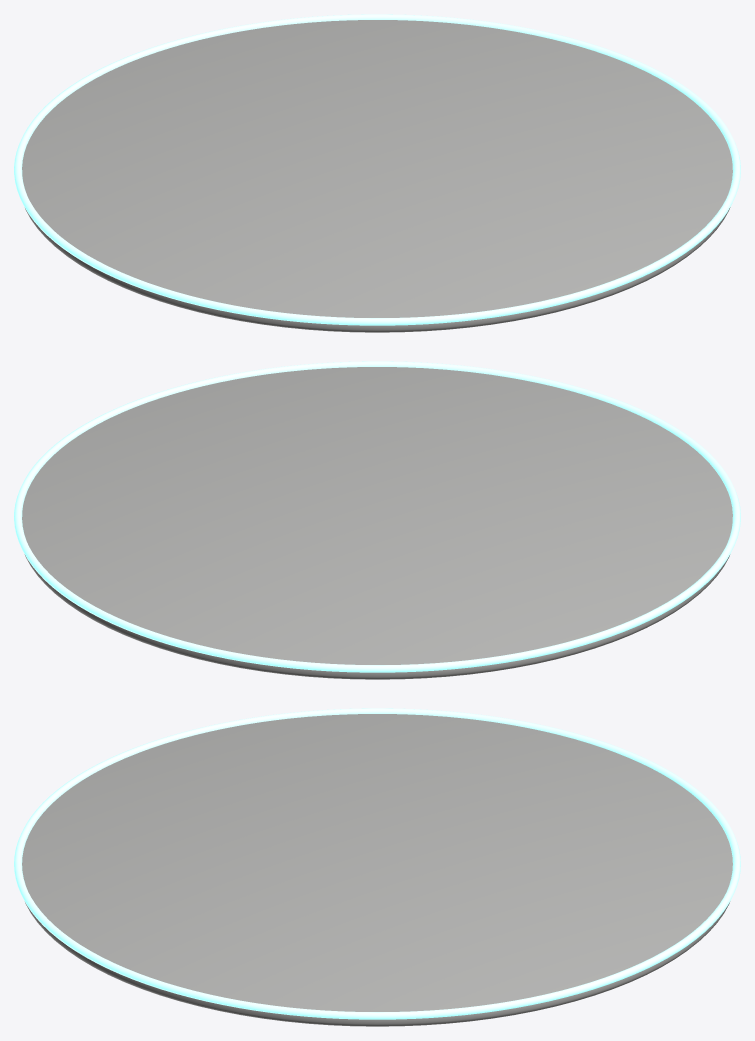
The model's file is platform.glb.
The picture shows the model from 3 angles, top to bottom: view 1: azimuth 30°, elevation 25°; view 2: azimuth 150°, elevation 25°; view 3: azimuth 270°, elevation 25°; orthographic projection.
Parts seen in each view (by area): view 1: Platform, PlatformRim; view 2: Platform, PlatformRim; view 3: Platform, PlatformRim.
Part boxes in pixels (x1=…): Platform: x1=22, y1=20, x2=732, y2=332; PlatformRim: x1=14, y1=14, x2=740, y2=325; Platform: x1=22, y1=367, x2=732, y2=679; PlatformRim: x1=14, y1=361, x2=740, y2=672; Platform: x1=22, y1=714, x2=732, y2=1026; PlatformRim: x1=14, y1=708, x2=740, y2=1019.
Bounding box in the file's own units: 3.24 × 0.0781 × 3.24.
